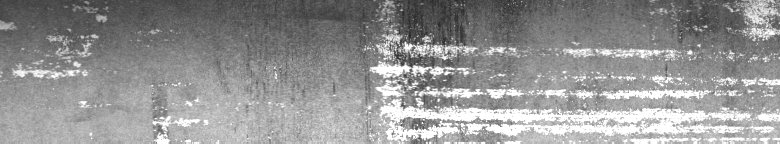kb: (359, 4, 776, 136)
